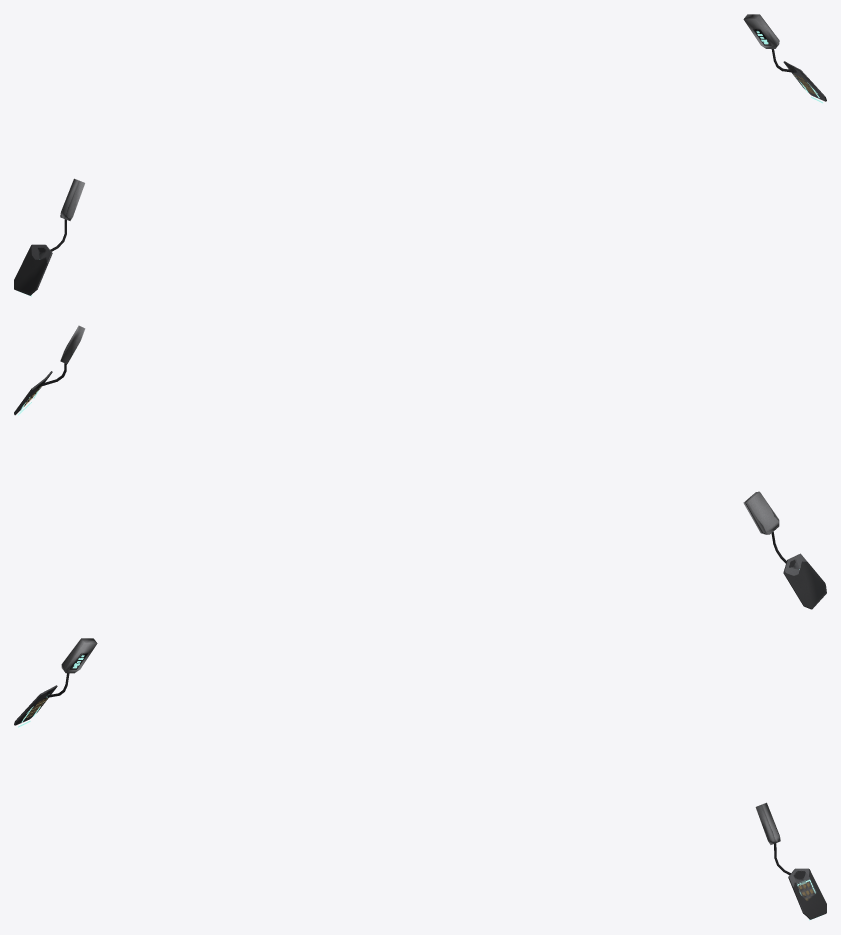
The model's file is fc1_fire_control.gltf.
3 renders of one model, top to bottom at view 1: azimuth 30°, elevation 25°; view 2: azimuth 150°, elevation 25°; view 3: azimuth 330°, elevation 25°, orthographic.
Parts seen in each view (by area): view 1: B_hand_R__fc1_fire_control, B_forearm_L__fc1_fire_control, B_hand_L__fc1_fire_control, B_forearm_R__fc1_fire_control; view 2: B_hand_R__fc1_fire_control, B_forearm_R__fc1_fire_control; view 3: B_hand_L__fc1_fire_control, B_forearm_R__fc1_fire_control, B_hand_R__fc1_fire_control, B_forearm_L__fc1_fire_control.
Boxes of the visible parts, x1,y1,x2,y2 form: B_hand_R__fc1_fire_control: (14, 219, 66, 296); B_forearm_L__fc1_fire_control: (743, 14, 779, 48); B_hand_L__fc1_fire_control: (771, 49, 826, 103); B_forearm_R__fc1_fire_control: (60, 178, 84, 220); B_hand_R__fc1_fire_control: (771, 532, 826, 609); B_forearm_R__fc1_fire_control: (743, 491, 779, 534); B_hand_L__fc1_fire_control: (774, 843, 826, 920); B_forearm_R__fc1_fire_control: (61, 638, 97, 673); B_hand_R__fc1_fire_control: (14, 673, 69, 727); B_forearm_L__fc1_fire_control: (755, 802, 780, 844).
Size of the model in its own units: 1.08 by 0.1297 by 0.0544.
1 material, 1 textured.
